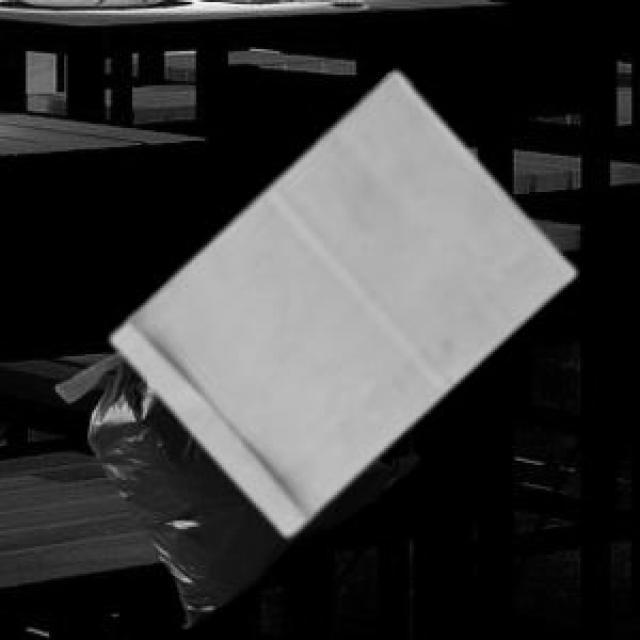miscellaneous trash: (51, 348, 414, 625)
paper: (109, 68, 570, 531)
